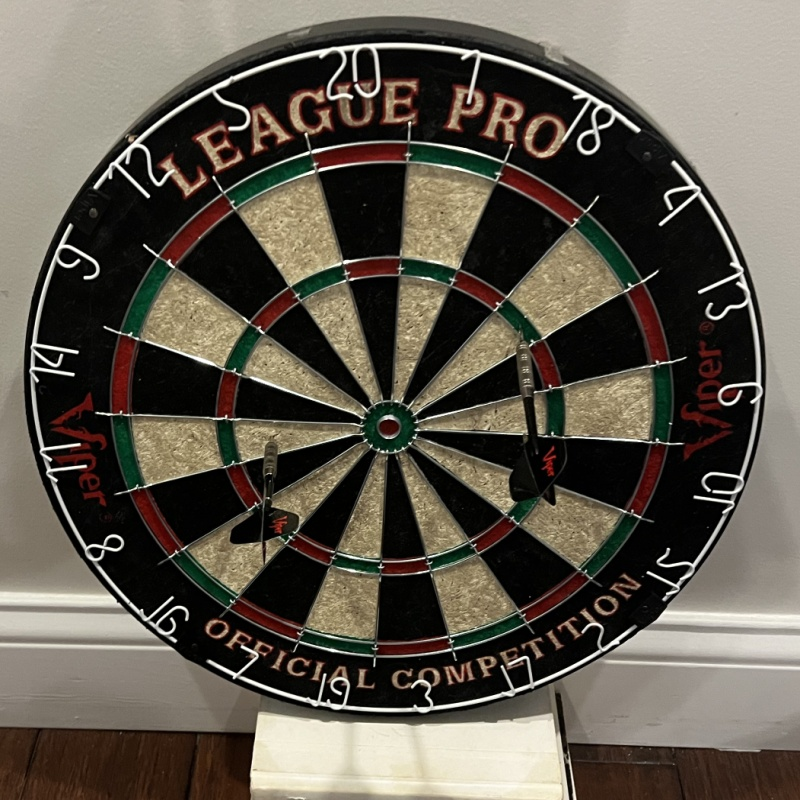dart: (504, 325, 544, 369), (254, 431, 287, 469)
eleven: (39, 441, 87, 481)
six: (716, 381, 766, 408)
three: (408, 679, 435, 713)
twenty: (320, 45, 381, 101)
